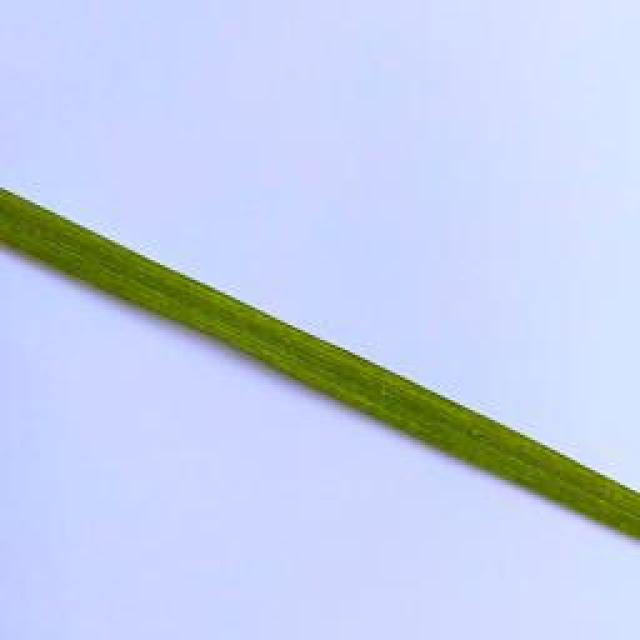Healthy-Plant: (0, 187, 640, 539)
